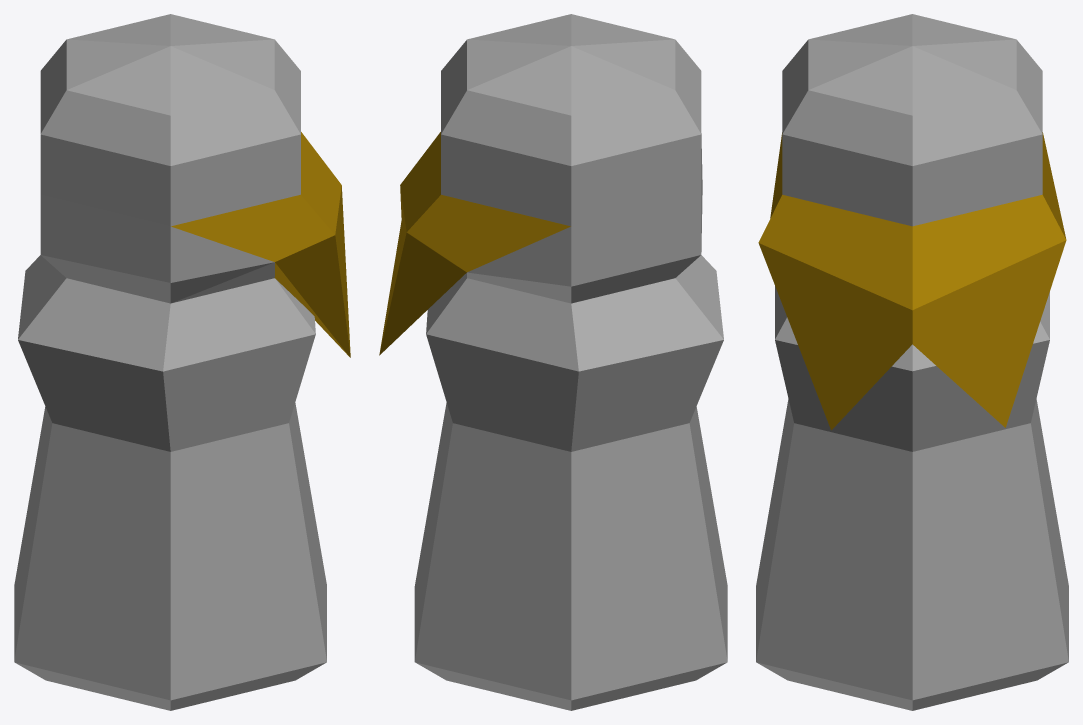
File: LP_Dwarf.fbx
The picture shows the model from 3 angles, left to right: view 1: azimuth 30°, elevation 25°; view 2: azimuth 150°, elevation 25°; view 3: azimuth 270°, elevation 25°; orthographic projection.
Visible parts, largest first — view 1: pCylinder6; view 2: pCylinder6; view 3: pCylinder6.
Part boxes in pixels (x1=…): pCylinder6: x1=14, y1=14, x2=350, y2=710; pCylinder6: x1=379, y1=14, x2=727, y2=710; pCylinder6: x1=756, y1=14, x2=1068, y2=710.
Bounding box in the file's own units: 0.5246 × 0.9242 × 0.434.
